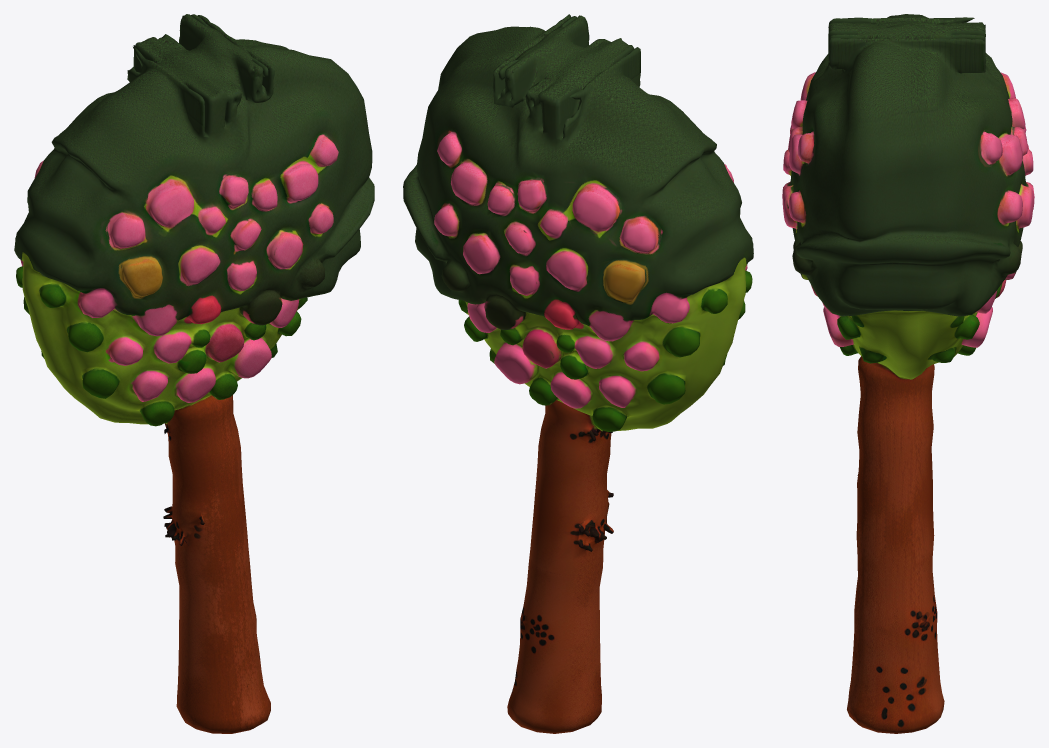
Rendered from stylized-tree-b.glb.
3 renders of one model, left to right at view 1: azimuth 30°, elevation 25°; view 2: azimuth 150°, elevation 25°; view 3: azimuth 270°, elevation 25°, orthographic. The views are drawn at different scales.
Visible parts, largest first — view 1: tripo_node_da7849b0-42ca-49cf-bb49-df2b139162d1; view 2: tripo_node_da7849b0-42ca-49cf-bb49-df2b139162d1; view 3: tripo_node_da7849b0-42ca-49cf-bb49-df2b139162d1.
Part boxes in pixels (x1,y1,x2,y2): tripo_node_da7849b0-42ca-49cf-bb49-df2b139162d1: (14,14,374,733); tripo_node_da7849b0-42ca-49cf-bb49-df2b139162d1: (403,14,753,733); tripo_node_da7849b0-42ca-49cf-bb49-df2b139162d1: (782,14,1034,733).
Size of the model in its own units: 0.4904 by 0.9787 by 0.3221.
1 material, 1 textured.
